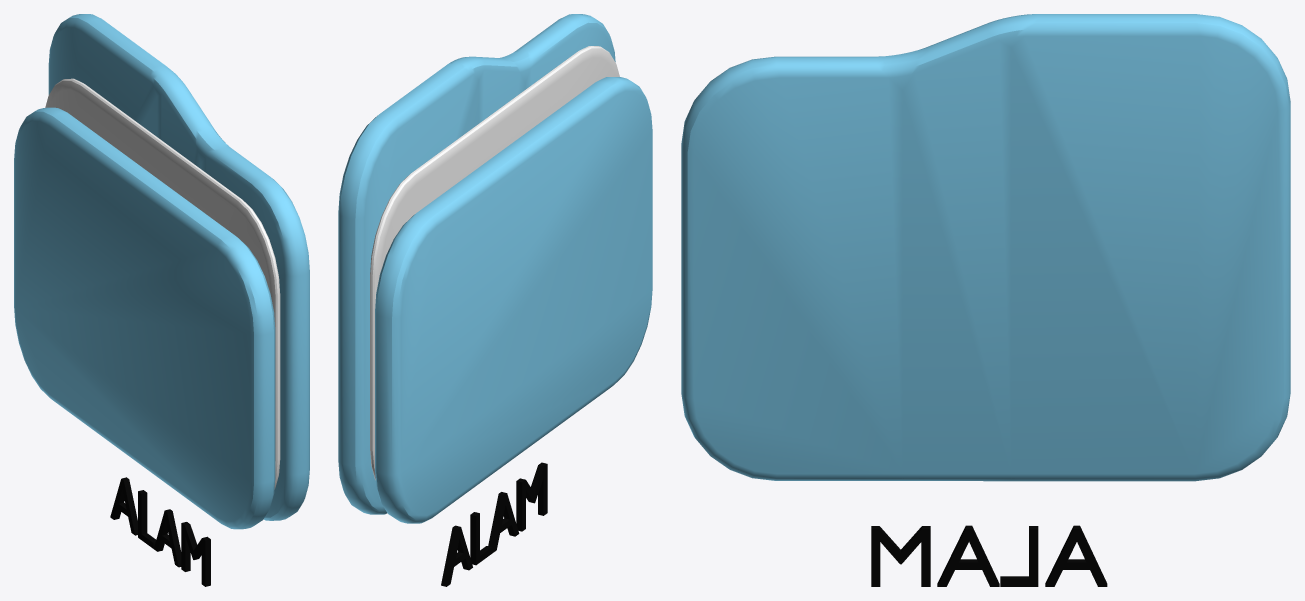
Rendered from Folder02_ALAM.fbx.
3 renders of one model, left to right at view 1: azimuth 30°, elevation 25°; view 2: azimuth 150°, elevation 25°; view 3: azimuth 270°, elevation 25°, orthographic. The views are drawn at different scales.
Visible parts, largest first — view 1: Plane.016; view 2: Plane.016; view 3: Plane.016.
Part boxes in pixels (x1=…): Plane.016: x1=14, y1=14, x2=309, y2=586; Plane.016: x1=338, y1=14, x2=652, y2=586; Plane.016: x1=681, y1=14, x2=1290, y2=586.
Bounding box in the file's own units: 2.67 × 20.34 × 19.39.
